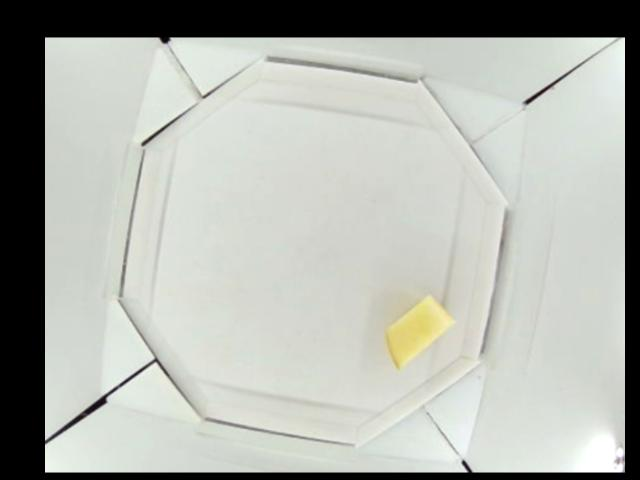Potato: (385, 293, 457, 369)
